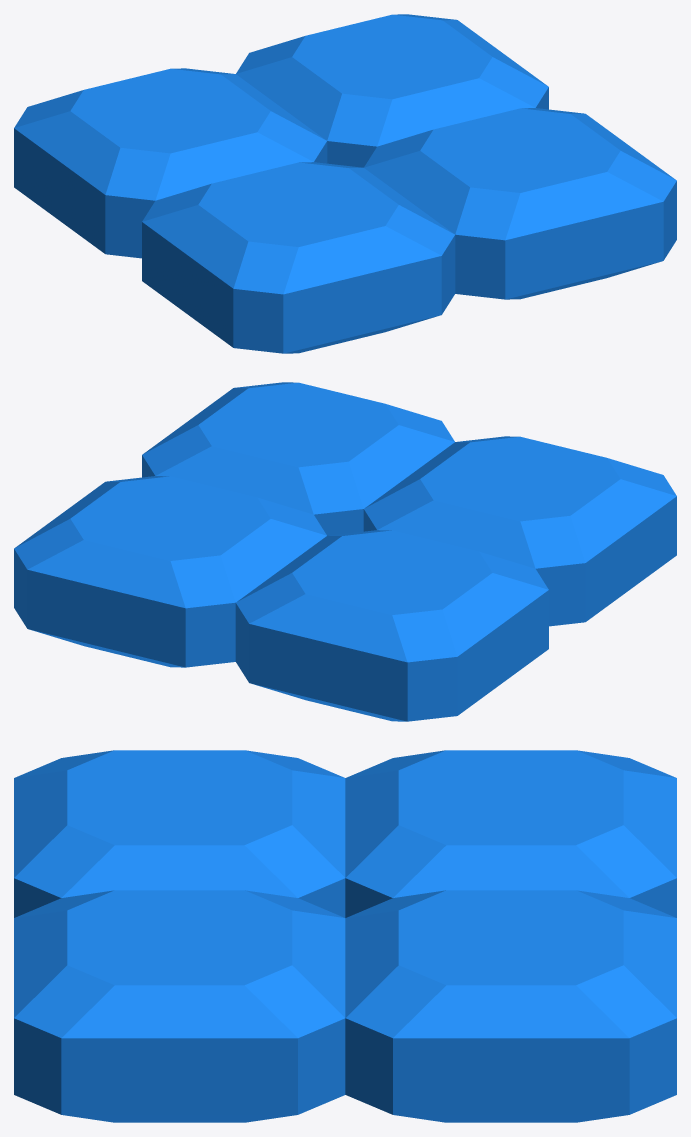
3 renders of one model, top to bottom at view 1: azimuth 30°, elevation 25°; view 2: azimuth 150°, elevation 25°; view 3: azimuth 270°, elevation 25°, orthographic. The views are drawn at different scales.
Parts seen in each view (by area): view 1: Cube.016; view 2: Cube.016; view 3: Cube.016.
Boxes of the visible parts, x1=… form: Cube.016: x1=14, y1=14, x2=676, y2=353; Cube.016: x1=14, y1=382, x2=676, y2=721; Cube.016: x1=14, y1=750, x2=676, y2=1122.
Size of the model in its own units: 1 by 0.2288 by 1.
Materials: 1 (1 with a texture image).
